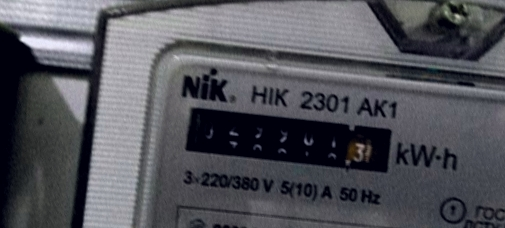0: (299, 122, 316, 148), (199, 117, 217, 140)
1: (324, 126, 340, 150)
2: (224, 117, 242, 138)
3: (350, 140, 365, 163)
9: (275, 121, 291, 144), (250, 118, 264, 141)
screen: (170, 95, 403, 184)
